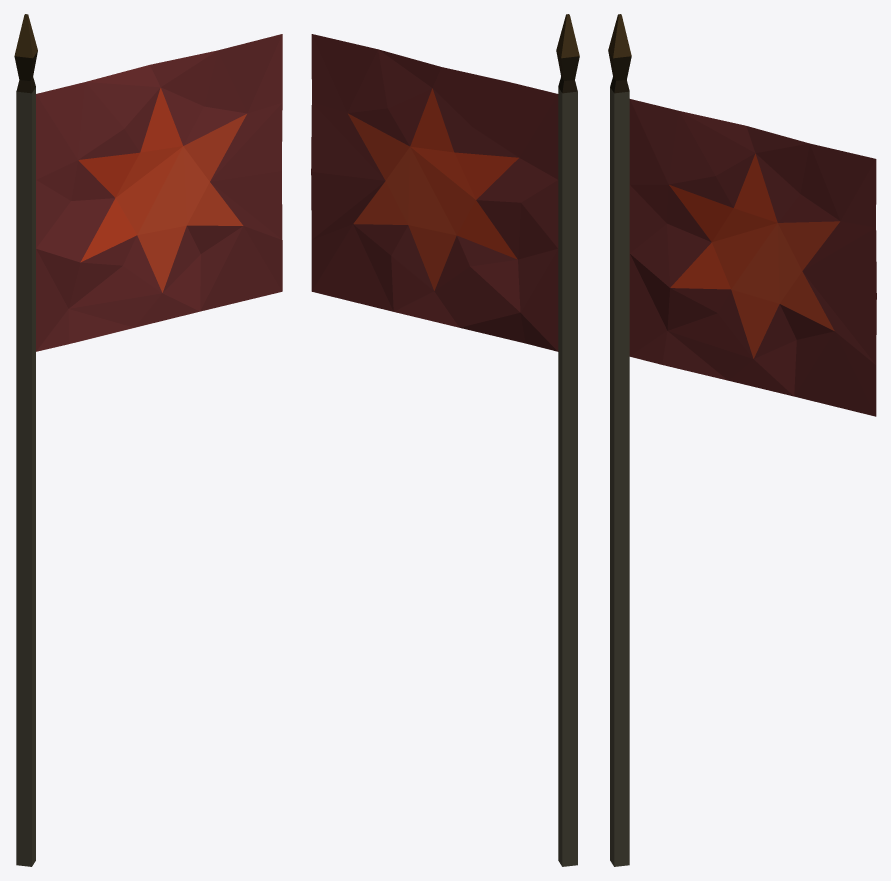
The model's file is Prop_FlagSquareA.fbx.
3 renders of one model, left to right at view 1: azimuth 30°, elevation 25°; view 2: azimuth 150°, elevation 25°; view 3: azimuth 330°, elevation 25°, orthographic.
Visible parts, largest first — view 1: Prop_FlagSquareA; view 2: Prop_FlagSquareA; view 3: Prop_FlagSquareA.
Boxes of the visible parts, box(x1,y1,x2,y2) form: Prop_FlagSquareA: box(14, 14, 282, 866); Prop_FlagSquareA: box(311, 14, 579, 866); Prop_FlagSquareA: box(608, 14, 876, 866).
Bounding box in the file's own units: 136 × 411 × 11.99.
